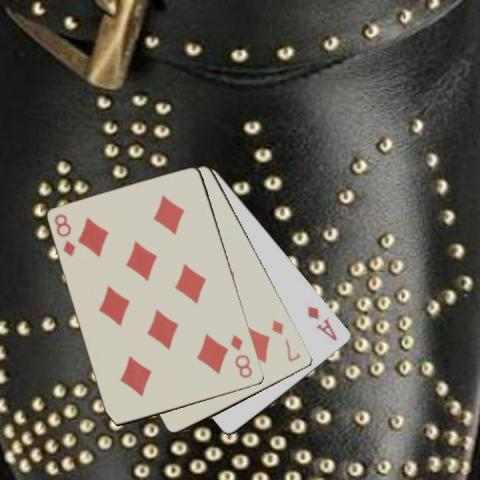7d: (269, 317, 302, 364)
8d: (227, 331, 254, 380), (52, 210, 77, 258)
Ad: (305, 303, 339, 343)
